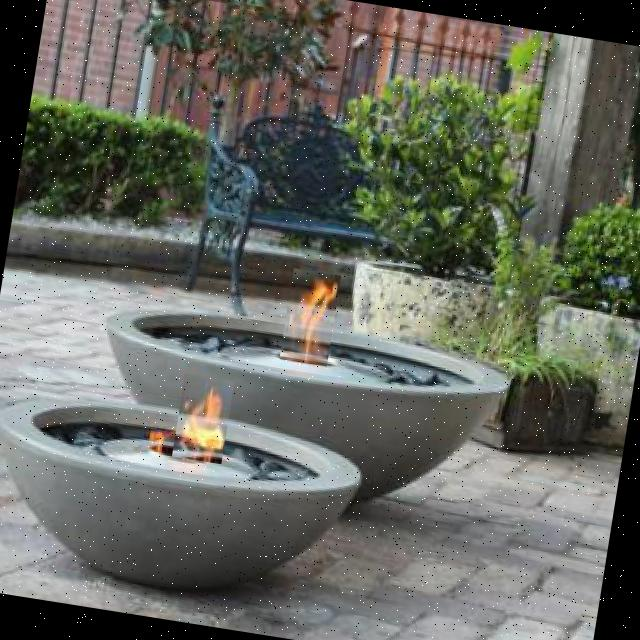fire: (280, 268, 342, 366), (172, 374, 234, 464)
